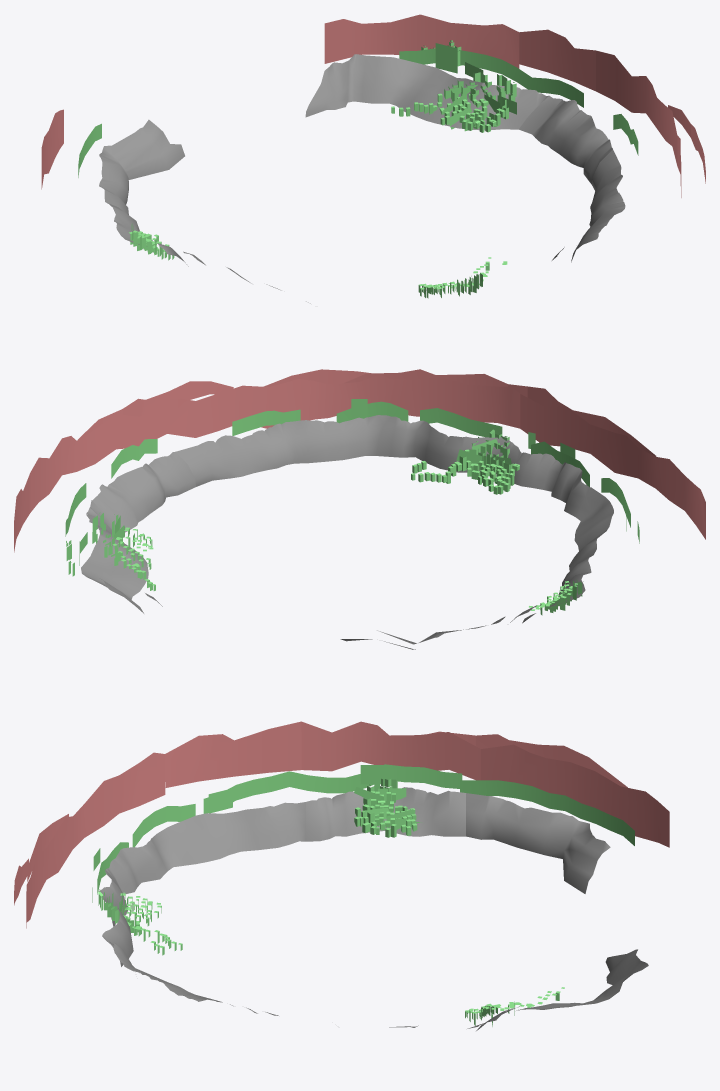
Rendered from SM_ENV_KNVLLG03_RockWall_All.gltf.
3 views of the same model, one above another, from view 1: azimuth 30°, elevation 25°; view 2: azimuth 150°, elevation 25°; view 3: azimuth 270°, elevation 25° (orthographic). The views are drawn at different scales.
Parts seen in each view (by area): view 1: SM_ENV_KNVLLG03_RockWall_All; view 2: SM_ENV_KNVLLG03_RockWall_All; view 3: SM_ENV_KNVLLG03_RockWall_All.
Part boxes in pixels (bbox=[...]): SM_ENV_KNVLLG03_RockWall_All: bbox=[41, 14, 705, 303]; SM_ENV_KNVLLG03_RockWall_All: bbox=[14, 369, 705, 649]; SM_ENV_KNVLLG03_RockWall_All: bbox=[14, 721, 669, 1030].
Bounding box in the file's own units: 2053 × 211 × 1954.
